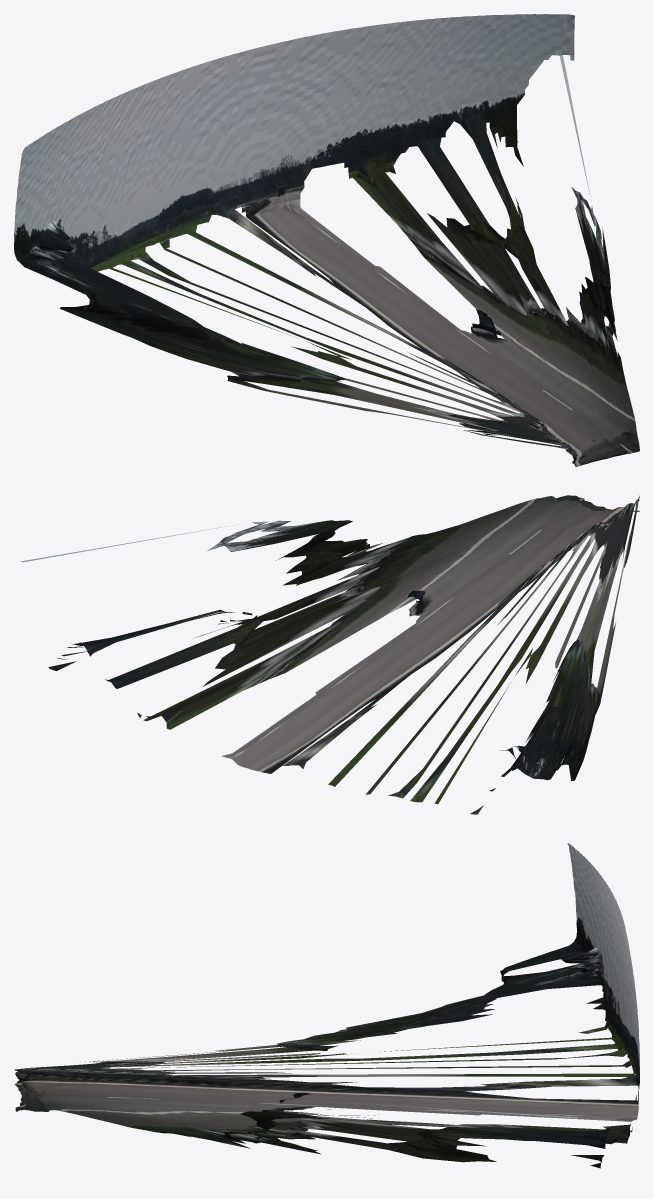
3 renders of one model, top to bottom at view 1: azimuth 30°, elevation 25°; view 2: azimuth 150°, elevation 25°; view 3: azimuth 270°, elevation 25°, orthographic. The views are drawn at different scales.
Visible parts, largest first — view 1: defaultobject; view 2: defaultobject; view 3: defaultobject.
Part boxes in pixels (x1,y1,x2,y2): defaultobject: [14, 14, 639, 466]; defaultobject: [20, 495, 639, 814]; defaultobject: [14, 843, 639, 1168].
Bounding box in the file's own units: 41.02 × 12.95 × 44.62.
1 material, 1 textured.
